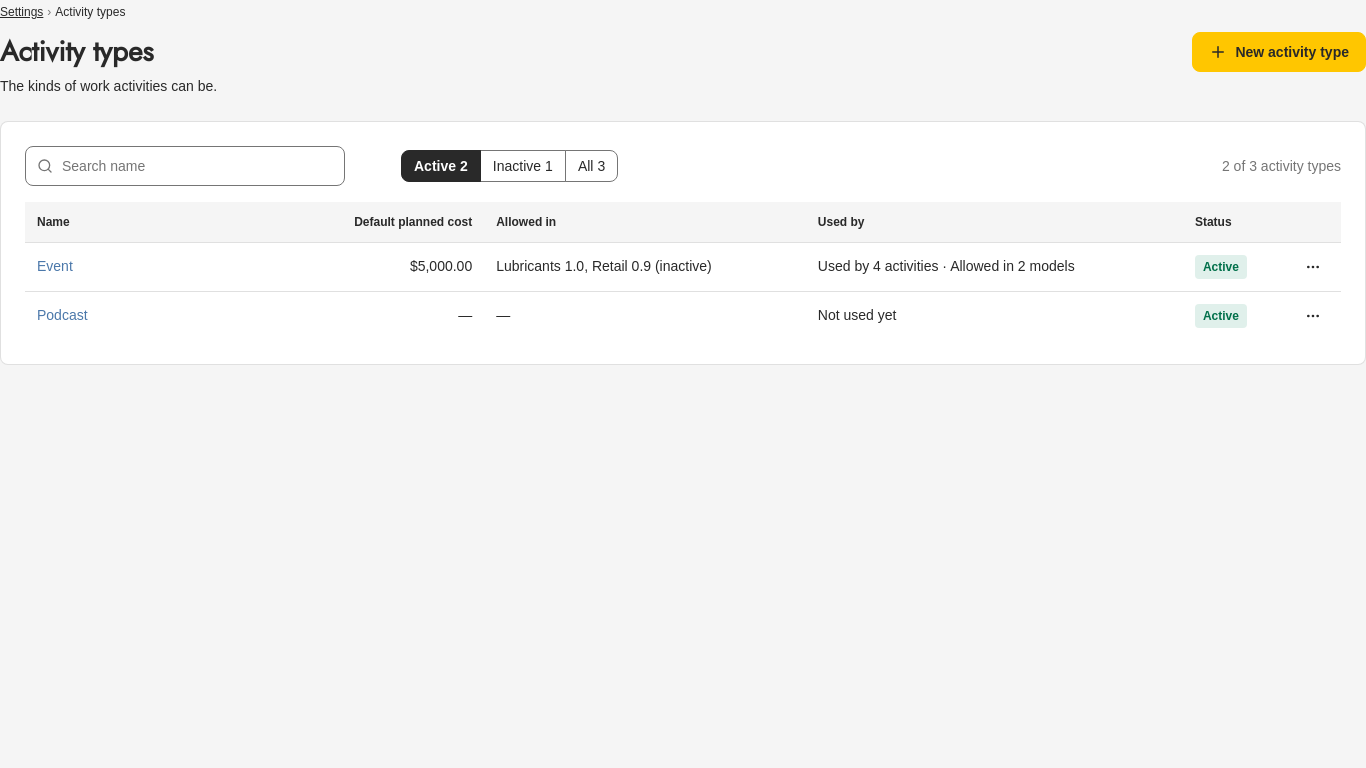
Test: ActivityTypesPage: create and edit (US5 scenarios 1 and 2, FR-013) › shows every problem at once and saves nothing (FR-005)
Click the button "New activity type".
click(1279, 52)  # box x1=1192 y1=32 x2=1365 y2=72
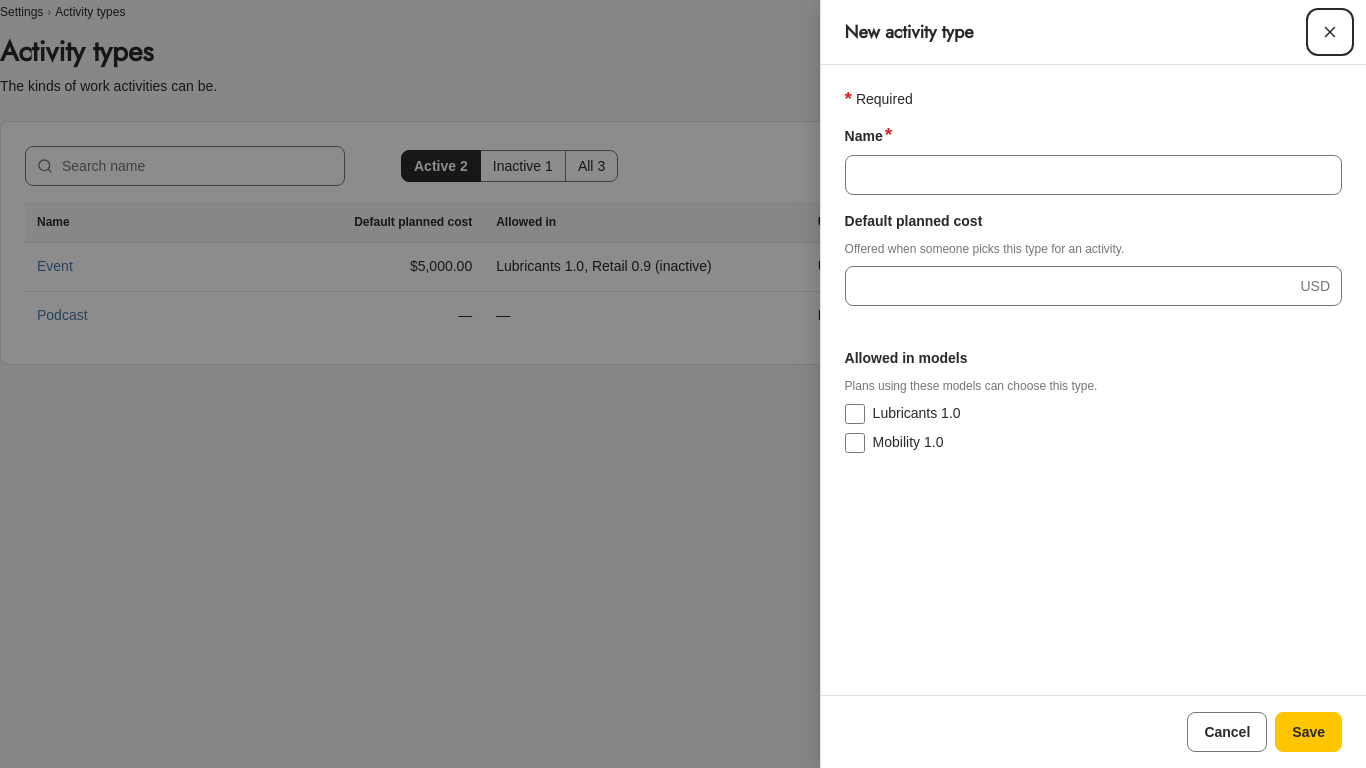
Type "event" into the field labelled "Name".
click(1093, 175); type("event")  # box x1=845 y1=155 x2=1342 y2=195
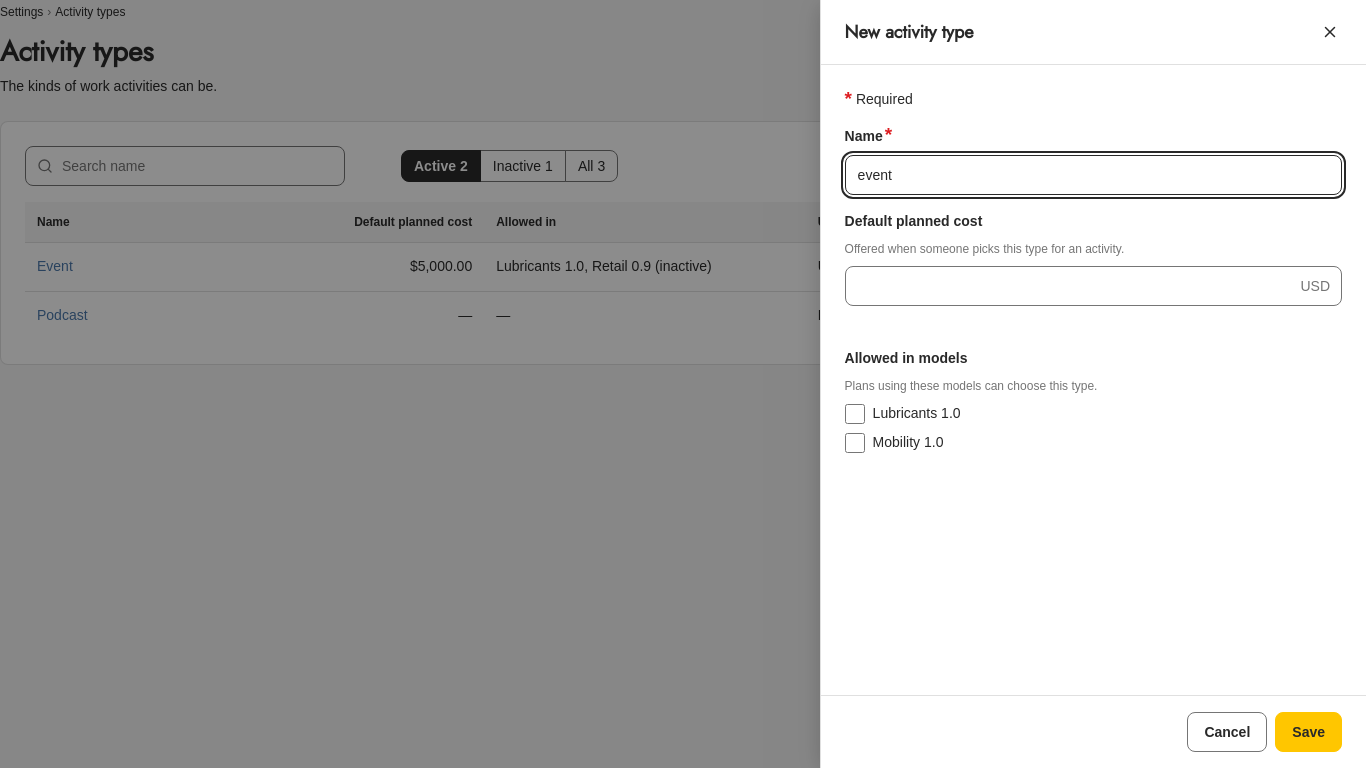
Type "-5" into the field labelled "Default planned cost".
click(1093, 286); type("-5")  # box x1=845 y1=266 x2=1342 y2=306
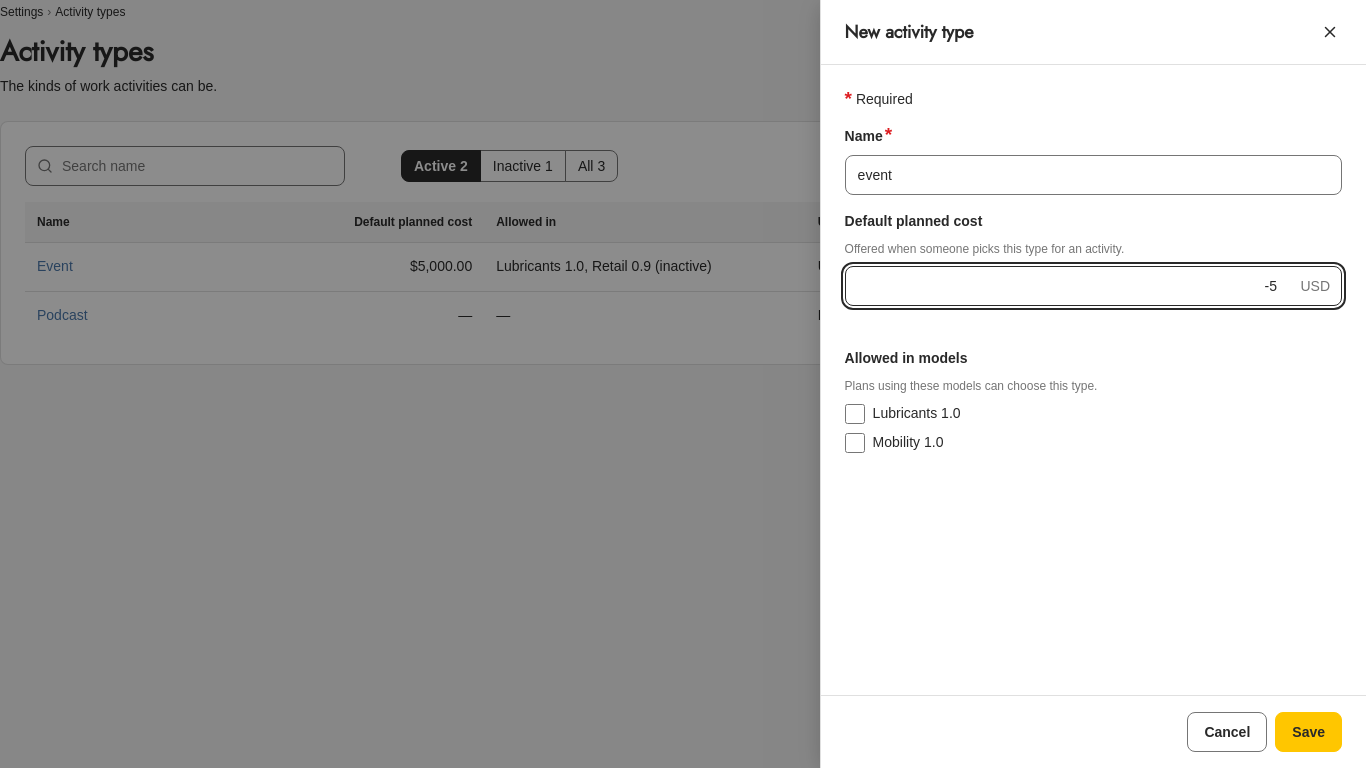
Click the button "Save".
click(1309, 732)  # box x1=1275 y1=712 x2=1342 y2=752
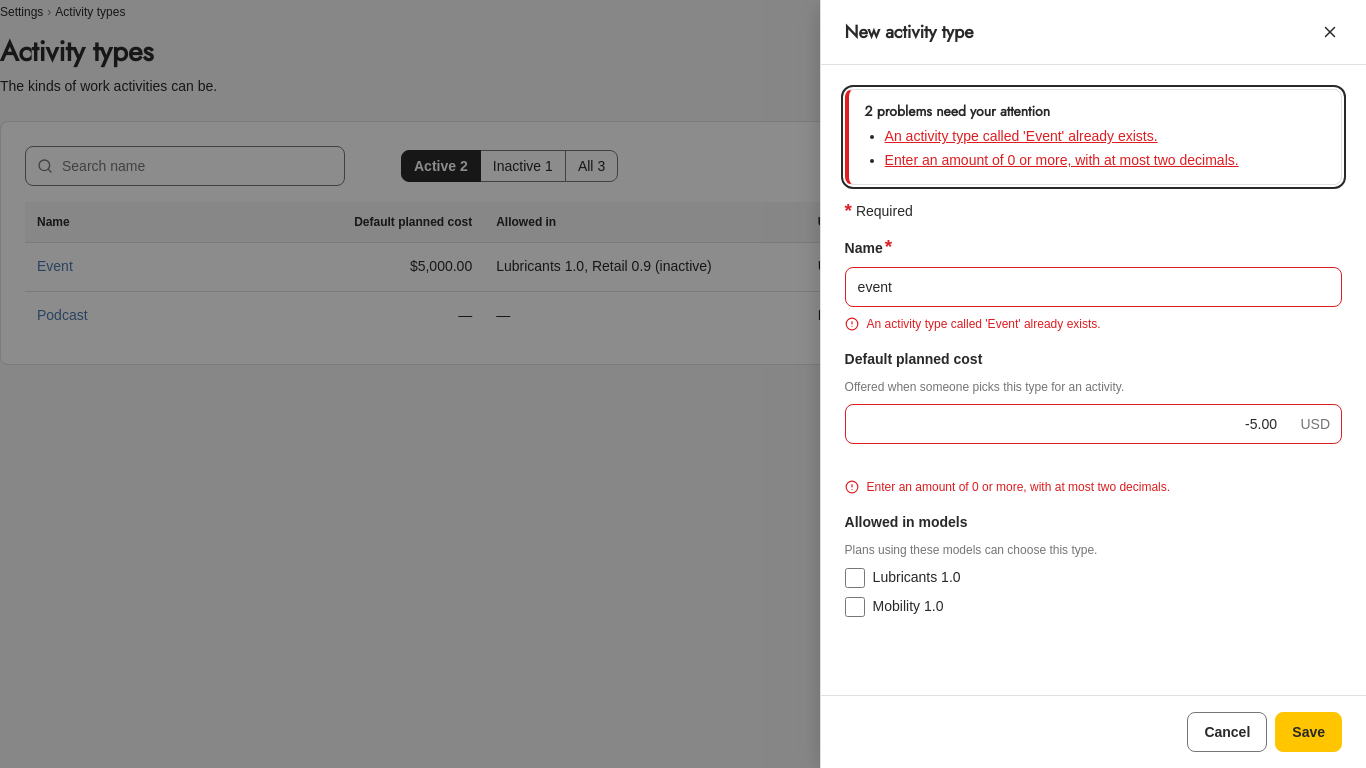
Check: the heading "2 problems need your attention" is shown, box x1=865 y1=101 x2=1050 y2=121
Check: the number of links "An activity type called 'Event' already exists." is 2, box x1=885 y1=124 x2=1158 y2=148; x1=845 y1=317 x2=1101 y2=331
Check: the number of links "Enter an amount of 0 or more, with at most two decimals." is 2, box x1=885 y1=148 x2=1239 y2=172; x1=845 y1=480 x2=1170 y2=494
